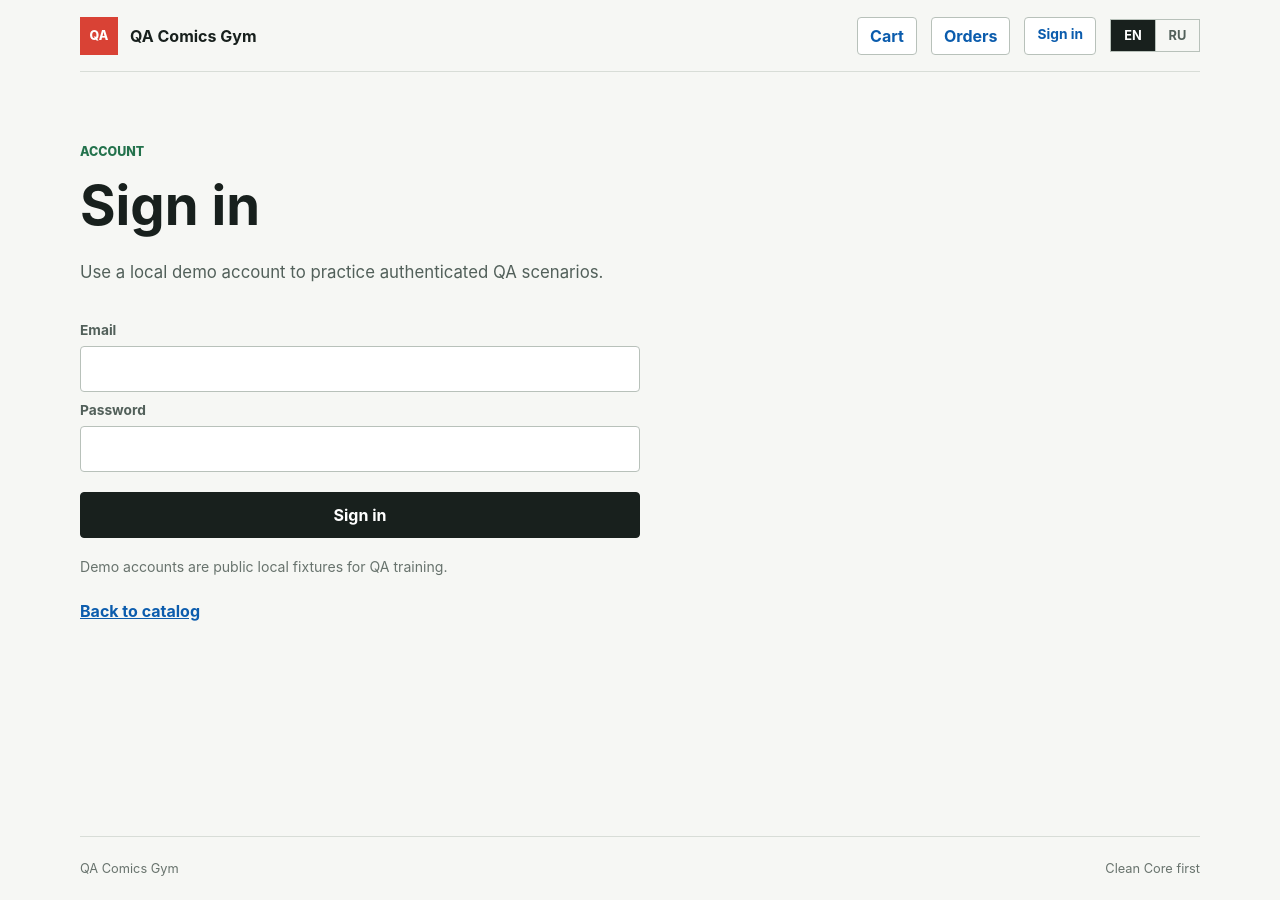
frontend auth flow › shows the admin role in shell state after admin login
In the field labelled "Email": (360, 369) x1=80 y1=346 x2=640 y2=392, type "admin@qacomics.local"
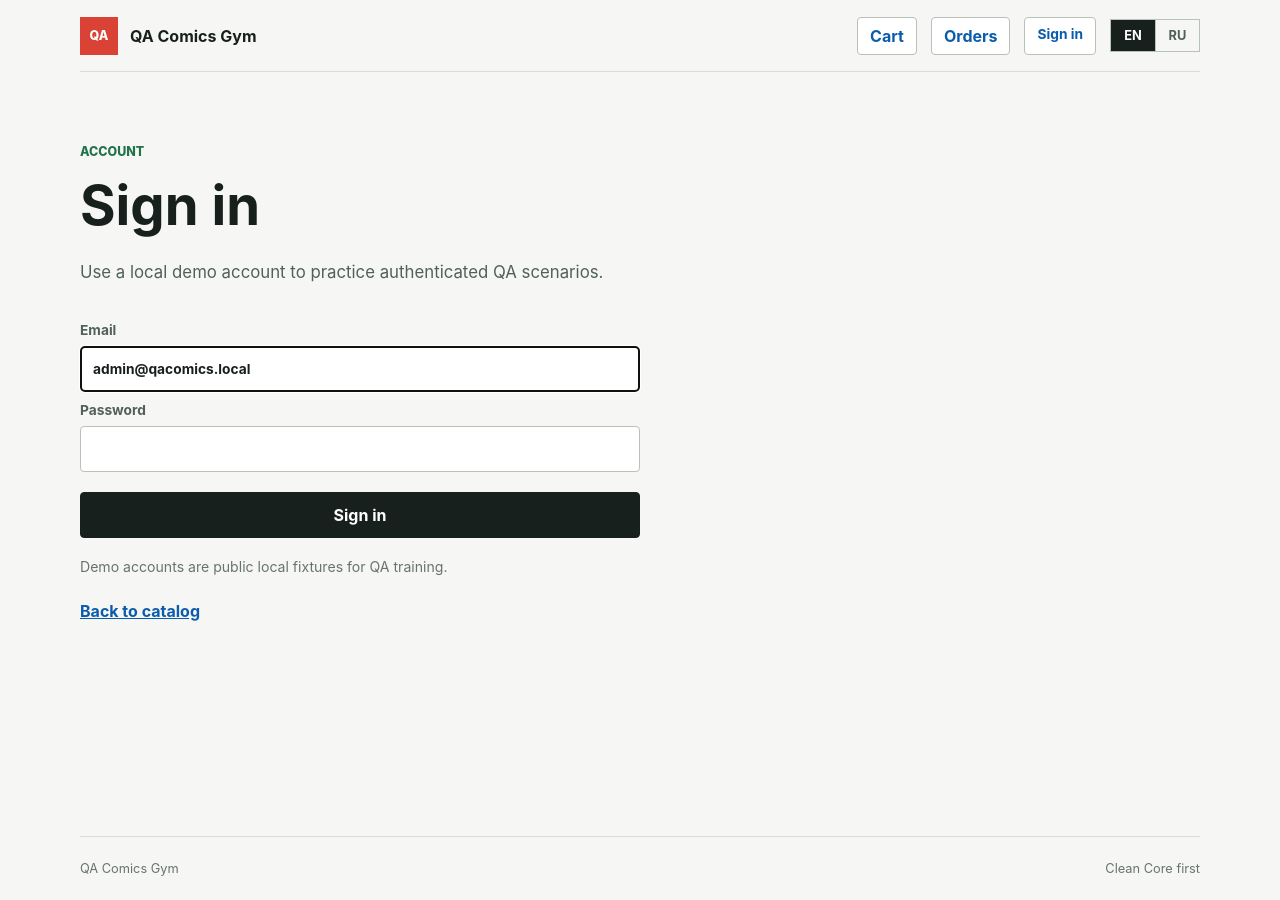
In the password field labelled "Password": (360, 449) x1=80 y1=426 x2=640 y2=472, type "DemoAdminPassphrase2026!"
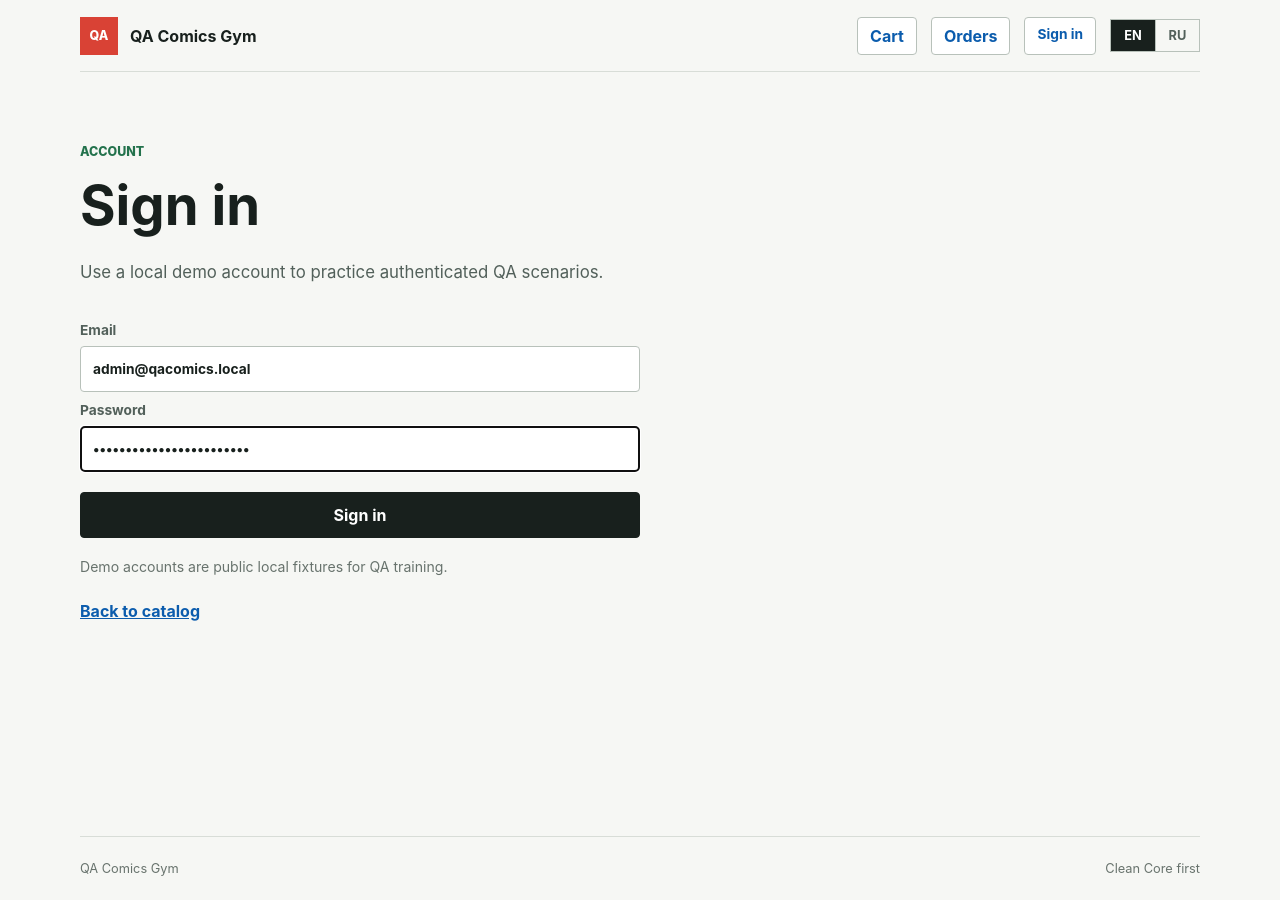
Click the button "Sign in": (360, 515) x1=80 y1=492 x2=640 y2=538
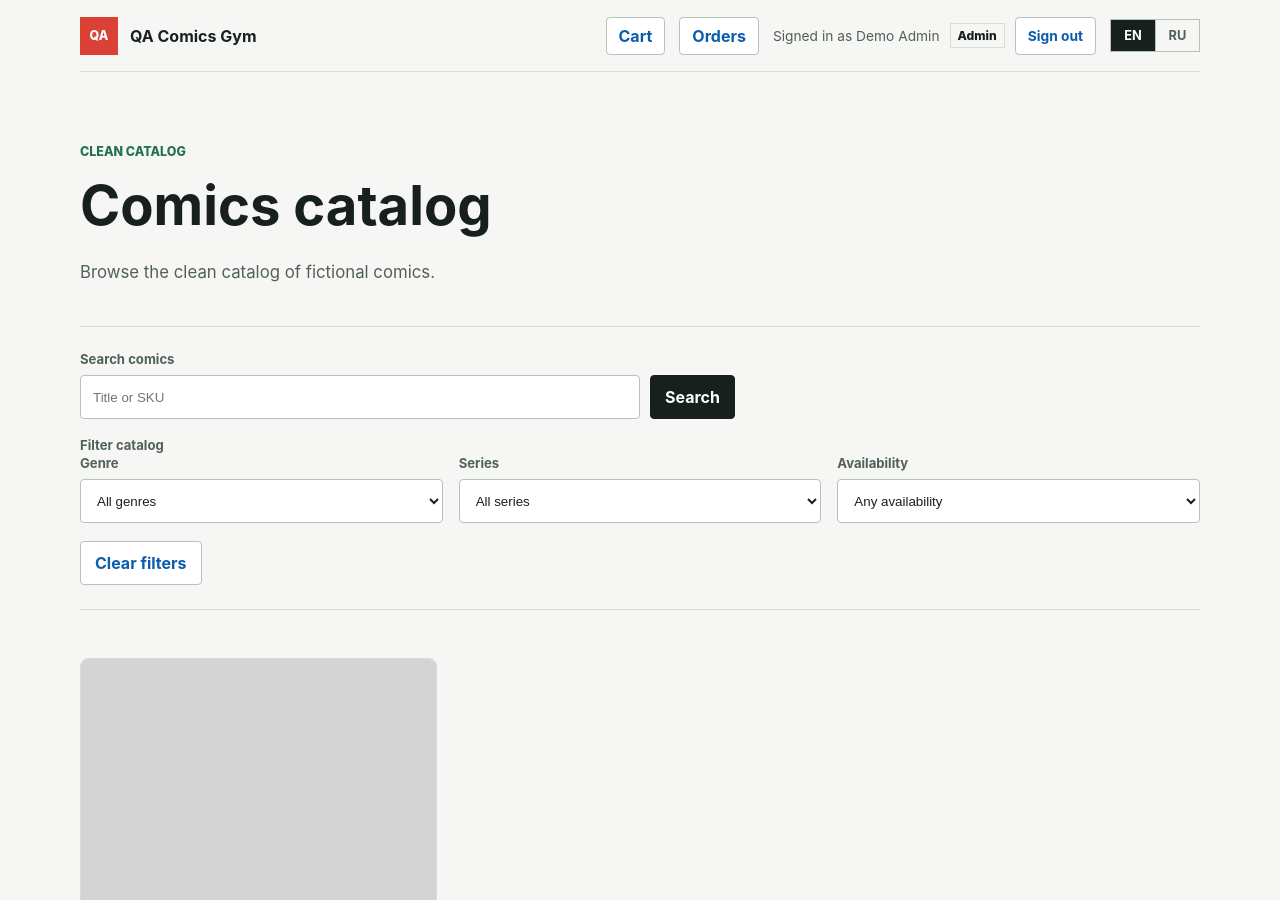
Expected: the text "Signed in as Demo Admin" is shown, x1=773 y1=28 x2=940 y2=44
Expected: the text "Admin" is shown, x1=950 y1=23 x2=1005 y2=48
